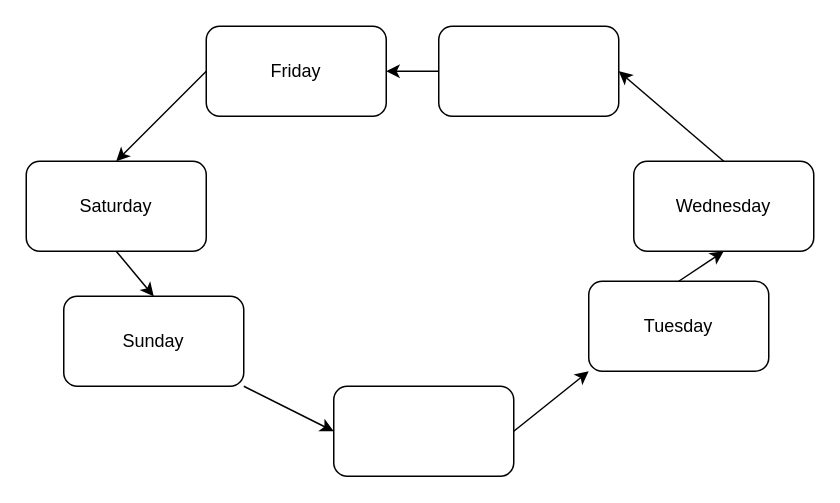
The diagram is 840 pixels wide and 503 high, and some of its shapes have lost their labels. Each missing label, with the centre of its shape:
Monday: pixel 423 430
Thursday: pixel 528 70
